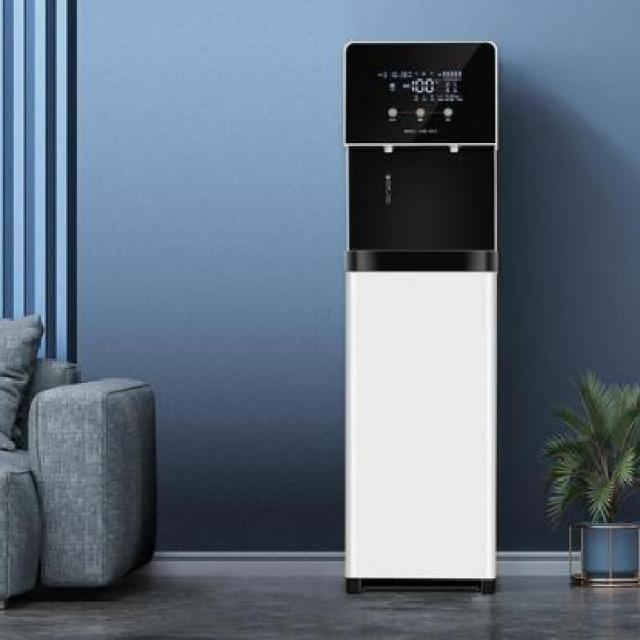cooler: (343, 37, 503, 598)
